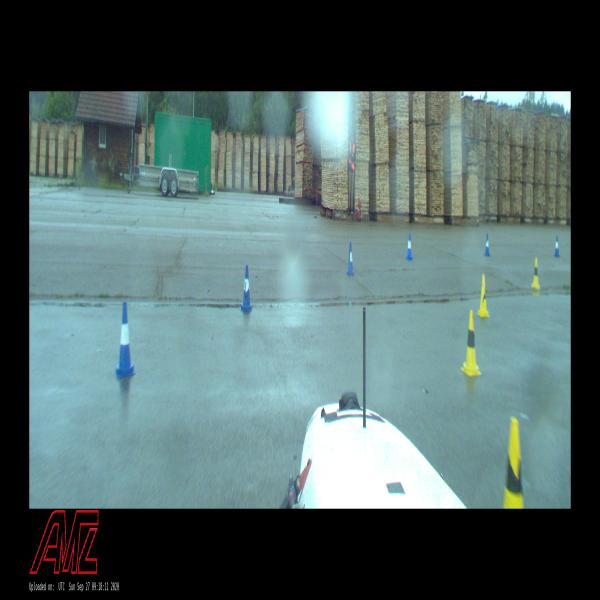blue_cone: (116, 302, 136, 377), (241, 265, 252, 311), (346, 242, 354, 275), (406, 233, 413, 259), (554, 236, 560, 258), (484, 234, 490, 255)
yellow_cone: (503, 417, 524, 508), (461, 311, 481, 376), (477, 275, 489, 317), (531, 258, 540, 290)
